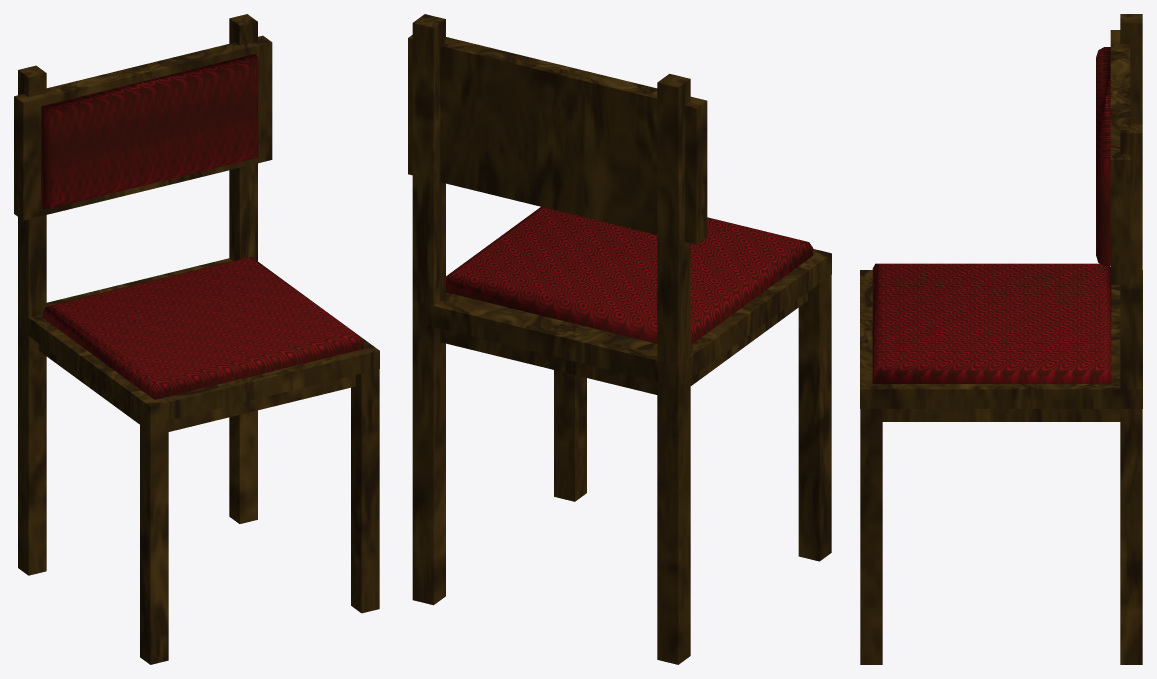
File: TableChair.fbx
3 views of the same model, side by side, from view 1: azimuth 30°, elevation 25°; view 2: azimuth 150°, elevation 25°; view 3: azimuth 270°, elevation 25° (orthographic). The views are drawn at different scales.
Parts seen in each view (by area): view 1: Cube.004; view 2: Cube.004; view 3: Cube.004.
Boxes of the visible parts, x1,y1,x2,y2 form: Cube.004: (14,14,379,664); Cube.004: (408,14,831,664); Cube.004: (860,14,1142,664).
Bounding box in the file's own units: 217 × 415 × 200.
2 materials, 2 textured.
